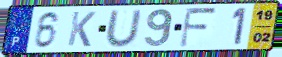1: (230, 7, 247, 47)
6: (34, 10, 60, 49)
9: (143, 8, 174, 48)
F: (178, 6, 218, 48)
K: (65, 10, 97, 48)
U: (104, 8, 144, 48)
